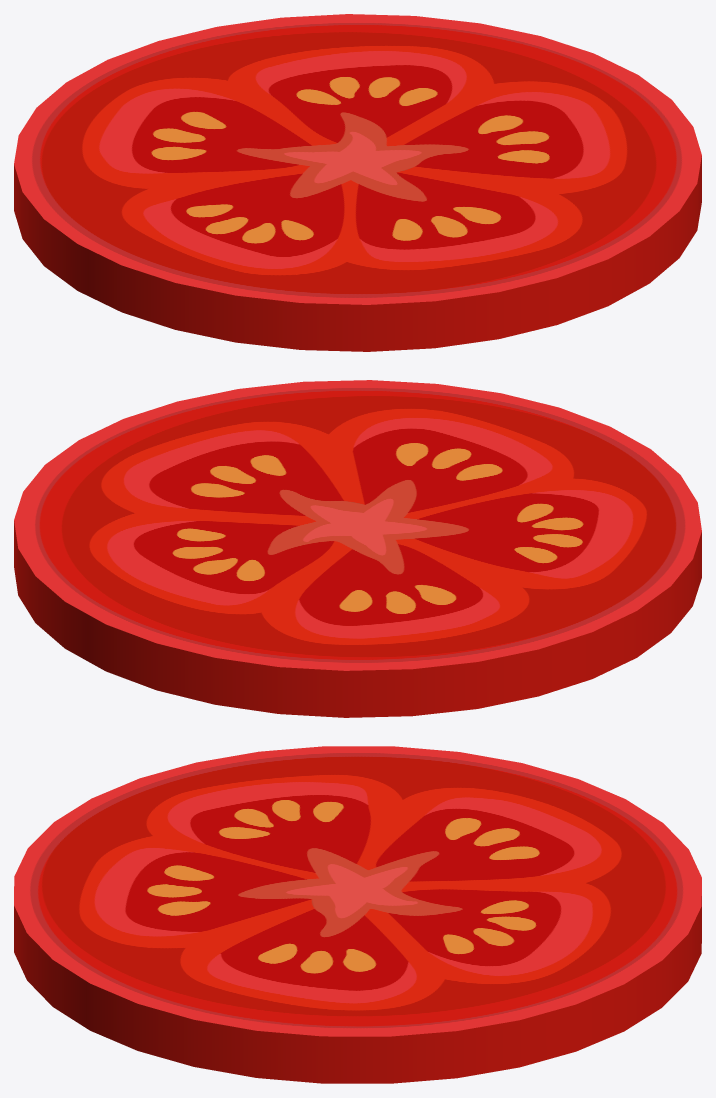
Rendered from Tomato.fbx.
3 views of the same model, one above another, from view 1: azimuth 30°, elevation 25°; view 2: azimuth 150°, elevation 25°; view 3: azimuth 270°, elevation 25° (orthographic).
Visible parts, largest first — view 1: tomoto.066; view 2: tomoto.066; view 3: tomoto.066.
Part boxes in pixels (x1=…): tomoto.066: x1=14, y1=14, x2=701, y2=351; tomoto.066: x1=14, y1=380, x2=701, y2=717; tomoto.066: x1=14, y1=746, x2=701, y2=1083.
Bounding box in the file's own units: 60.79 × 4.64 × 60.79.
